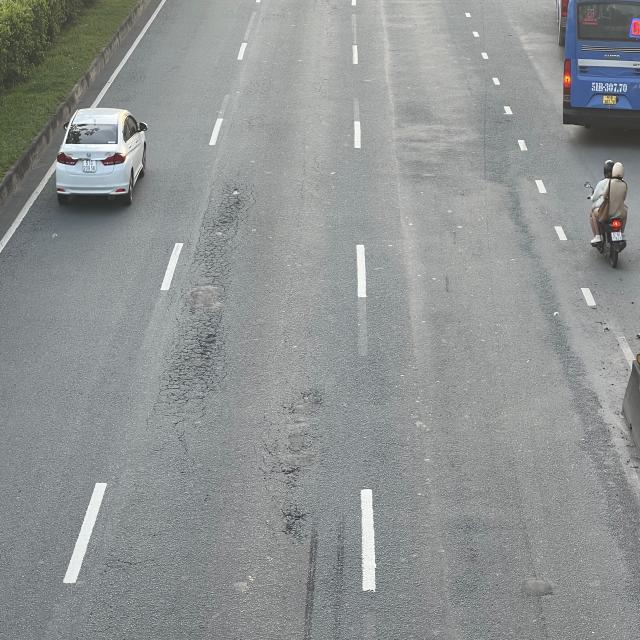car: (58, 106, 150, 206)
coach: (562, 2, 640, 131)
